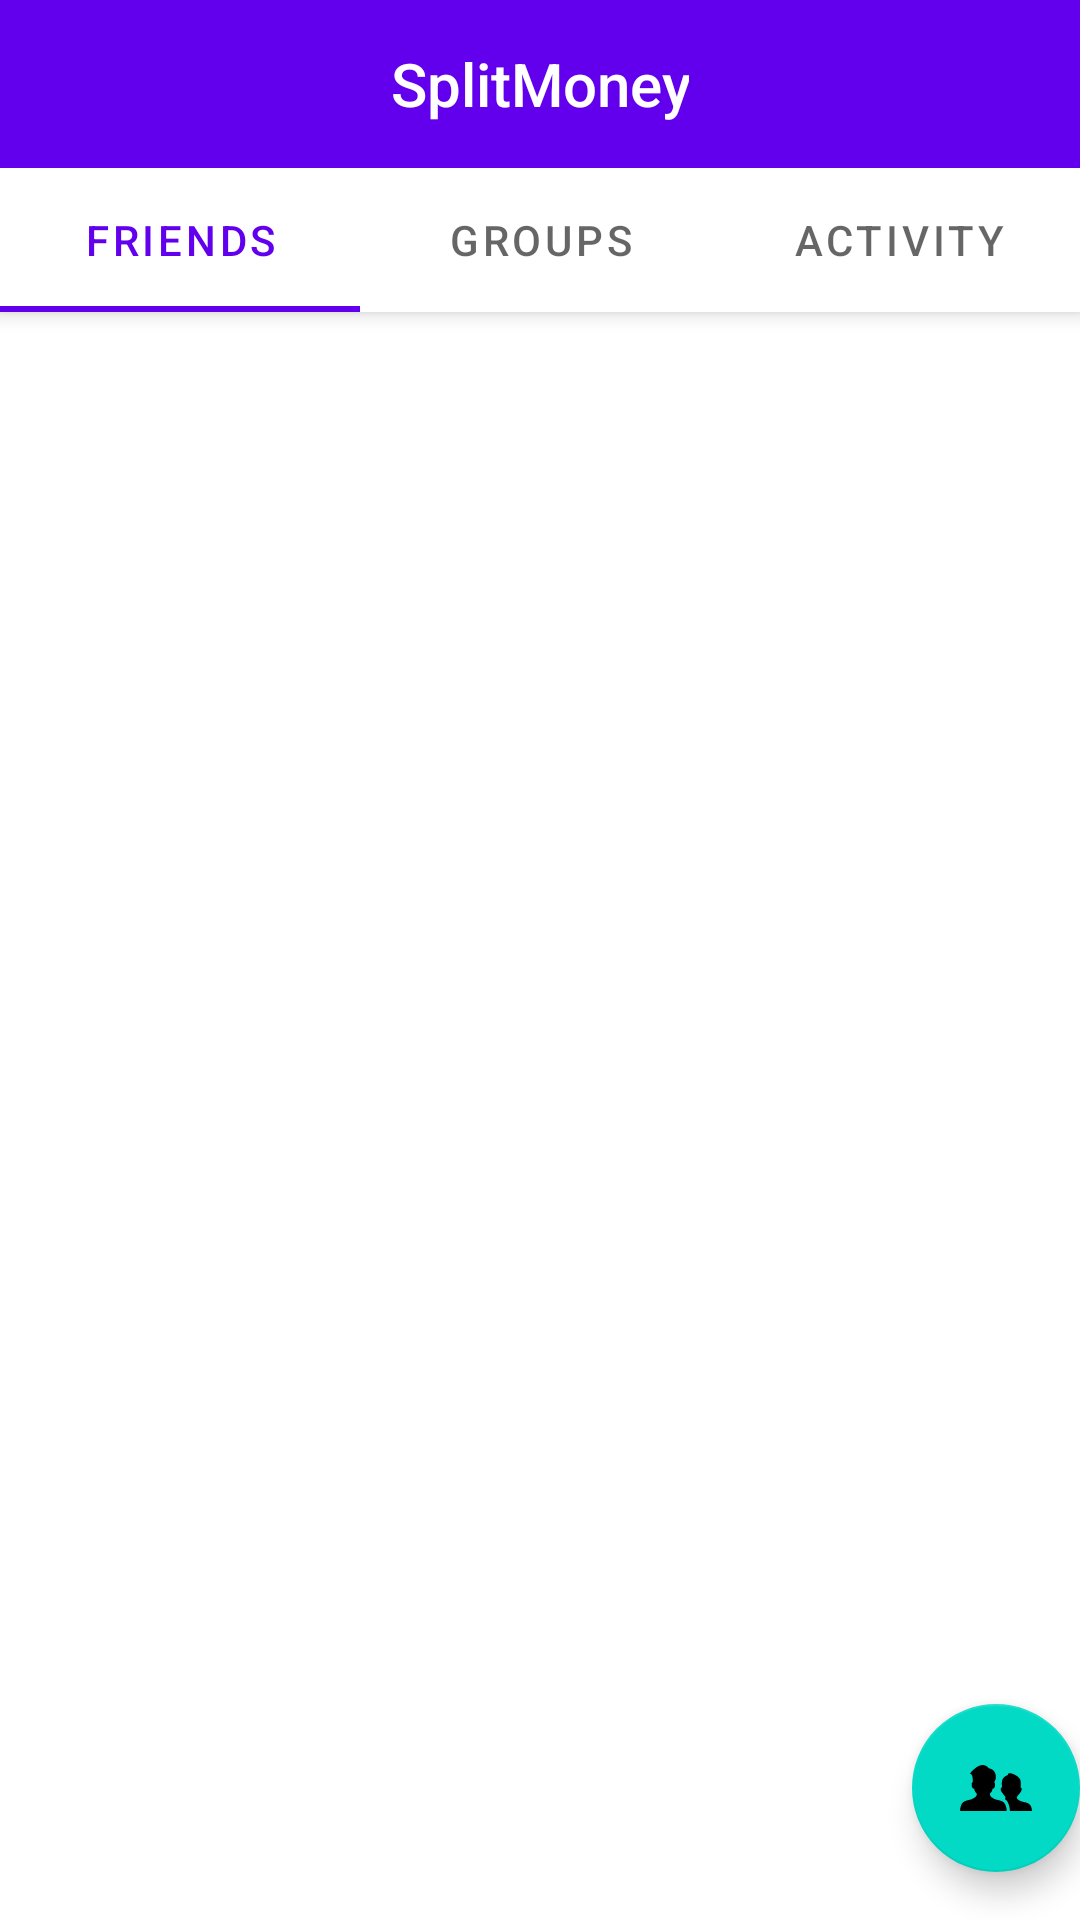

Where icons sit on this 1080x1920 app screen, as detection(x1, y1, x2, y2):
friend: detection(912, 1704, 1080, 1872)
